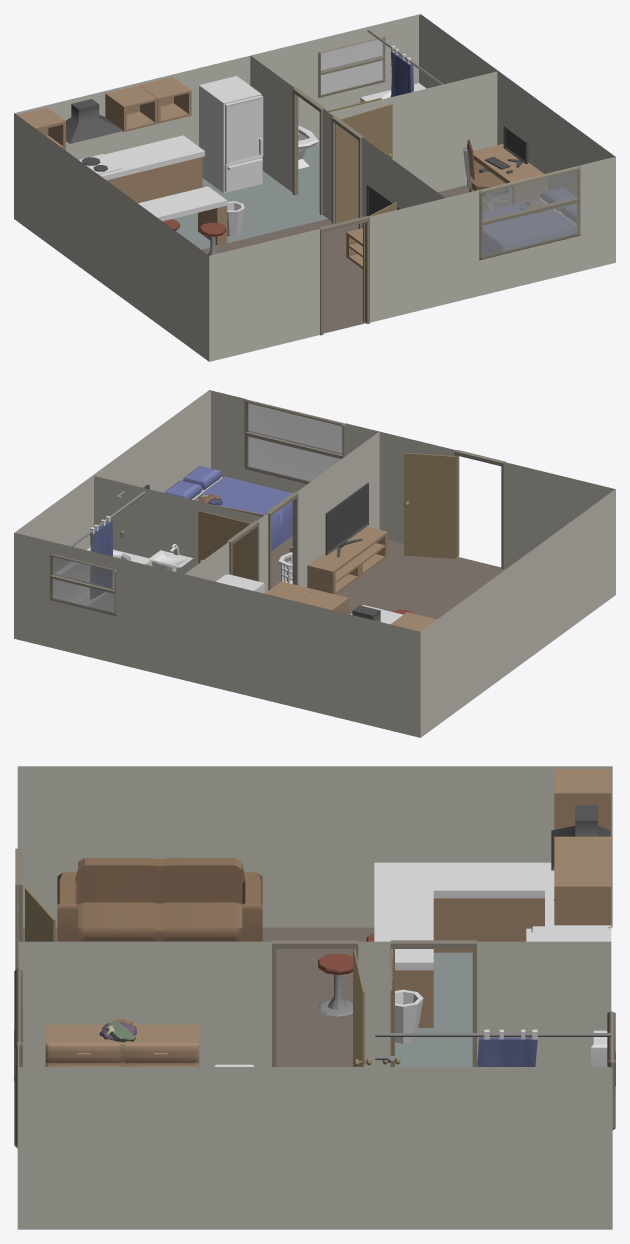
Rendered from Home.fbx.
The picture shows the model from 3 angles, top to bottom: view 1: azimuth 30°, elevation 25°; view 2: azimuth 150°, elevation 25°; view 3: azimuth 270°, elevation 25°; orthographic projection. The views are drawn at different scales.
Visible parts, largest first — view 1: Front_wall_out, Right_wall_out, Back_wall_in1, Floor, small_wall_bed, left_wall_in, Bench, window_bed, mid_wall_bed, Door_Frame (×3), Door_Door, bed (+18 smaller); view 2: Back_wall_in1, Right_wall_out, Front_wall_out, left_wall_in, Floor, small_wall_bed, window_bed, mid_wall_bed, Door_Door2, bed, window_bath, tv_cabnet (+11 smaller); view 3: left_wall_out, Right_wall_in, mid_wall_bed, couch, Bench, Floor, Drawers, Door_Frame (×3), Cubboard2, door_wall, Cubboard1, shower_curtain (+13 smaller).
Part boxes in pixels (bbox=[...]): Front_wall_out: bbox=[209, 157, 615, 361]; Right_wall_out: bbox=[14, 113, 209, 361]; Back_wall_in1: bbox=[14, 14, 420, 159]; Floor: bbox=[173, 145, 511, 333]; small_wall_bed: bbox=[328, 71, 497, 192]; left_wall_in: bbox=[419, 15, 613, 196]; Bench: bbox=[79, 135, 227, 245]; window_bed: bbox=[479, 165, 579, 260]; mid_wall_bed: bbox=[250, 56, 444, 228]; Door_Frame (×3): bbox=[292, 88, 369, 335]; Door_Door: bbox=[335, 104, 392, 223]; bed: bbox=[483, 188, 576, 255]; Back_wall_in1: bbox=[14, 533, 420, 737]; Right_wall_out: bbox=[420, 489, 615, 737]; Front_wall_out: bbox=[209, 390, 615, 568]; left_wall_in: bbox=[16, 391, 210, 573]; Floor: bbox=[271, 536, 506, 619]; small_wall_bed: bbox=[94, 476, 262, 573]; window_bed: bbox=[244, 399, 345, 484]; mid_wall_bed: bbox=[185, 432, 379, 587]; Door_Door2: bbox=[404, 452, 456, 558]; bed: bbox=[164, 466, 292, 551]; window_bath: bbox=[50, 553, 116, 615]; tv_cabnet: bbox=[307, 526, 387, 594]; left_wall_out: bbox=[17, 1068, 612, 1229]; Right_wall_in: bbox=[19, 766, 611, 927]; mid_wall_bed: bbox=[19, 941, 611, 1066]; couch: bbox=[57, 858, 262, 941]; Bench: bbox=[374, 862, 611, 1027]; Floor: bbox=[22, 927, 472, 1066]; Drawers: bbox=[45, 1024, 199, 1066]; Door_Frame (×3): bbox=[15, 848, 476, 1066]; Cubboard2: bbox=[554, 861, 611, 925]; door_wall: bbox=[358, 941, 390, 1066]; Cubboard1: bbox=[554, 769, 611, 834]; shower_curtain: bbox=[477, 1029, 537, 1066].
Bounding box in the file's own units: 12.07 × 3.03 × 10.16.
